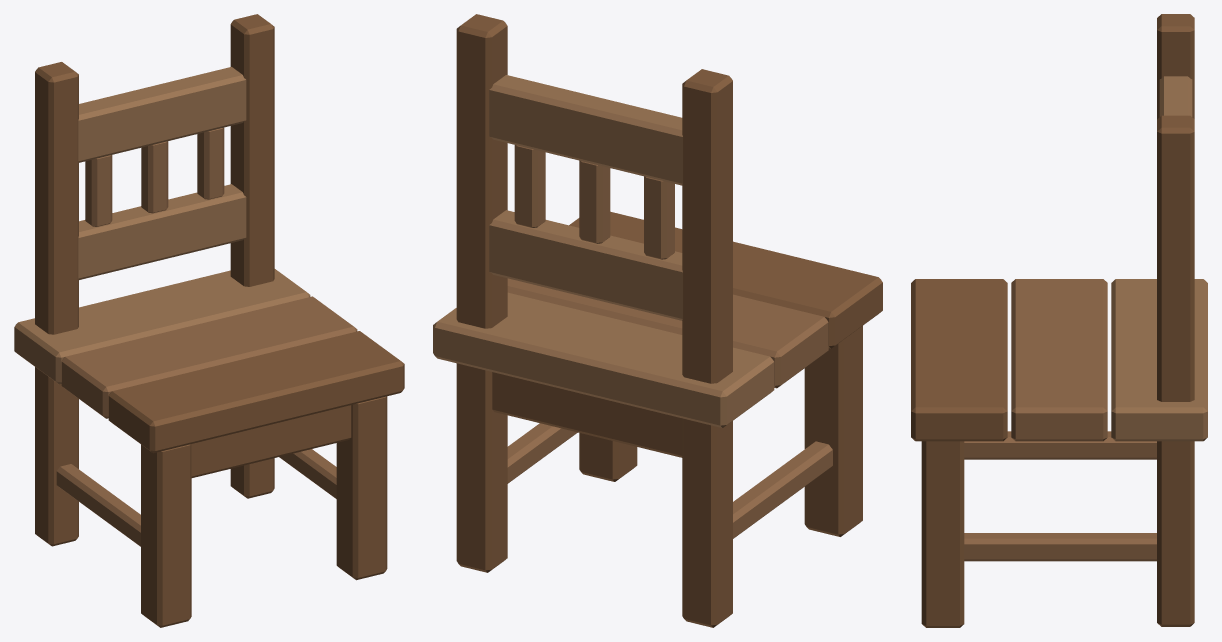
File: PubChair.glb
3 renders of one model, left to right at view 1: azimuth 30°, elevation 25°; view 2: azimuth 150°, elevation 25°; view 3: azimuth 270°, elevation 25°, orthographic. The views are drawn at different scales.
Parts seen in each view (by area): view 1: SeatPlank, RearPost, SeatPlank.001, RearPost.001, SeatPlank.002, BackRail.001, BackRail, FrontLeg, FrontLeg.001, SeatApron, SideRail, BackSlat.001 (+3 smaller); view 2: RearPost, RearPost.001, SeatPlank.002, BackRail.001, BackRail, FrontLeg, SeatPlank, SeatPlank.001, SeatApron.001, SideRail, BackSlat.001, BackSlat.002 (+3 smaller); view 3: RearPost.001, SeatPlank, SeatPlank.001, SeatPlank.002, FrontLeg.001, SideRail.001, SideRail, RearPost, BackRail.001.
Boxes of the visible parts, <box> form: SeatPlank: <box>108,331,404,453</box>; RearPost: <box>35,62,78,546</box>; SeatPlank.001: <box>61,296,357,418</box>; RearPost.001: <box>230,14,274,498</box>; SeatPlank.002: <box>14,269,310,384</box>; BackRail.001: <box>78,67,246,162</box>; BackRail: <box>78,184,246,279</box>; FrontLeg: <box>141,444,191,627</box>; FrontLeg.001: <box>336,396,387,580</box>; SeatApron: <box>191,405,351,477</box>; SideRail: <box>56,464,140,546</box>; BackSlat.001: <box>141,141,168,213</box>; RearPost: <box>682,69,732,627</box>; RearPost.001: <box>456,14,507,572</box>; SeatPlank.002: <box>433,292,774,427</box>; BackRail.001: <box>489,75,682,185</box>; BackRail: <box>489,210,682,320</box>; FrontLeg: <box>804,326,862,536</box>; SeatPlank: <box>569,211,882,348</box>; SeatPlank.001: <box>507,278,828,388</box>; SeatApron.001: <box>492,372,682,457</box>; SideRail: <box>733,441,832,538</box>; BackSlat.001: <box>579,160,610,243</box>; BackSlat.002: <box>514,145,545,227</box>; RearPost.001: <box>1157,115,1194,626</box>; SeatPlank: <box>911,279,1007,441</box>; SeatPlank.001: <box>1011,279,1107,441</box>; SeatPlank.002: <box>1111,279,1207,441</box>; FrontLeg.001: <box>921,441,964,627</box>; SideRail.001: <box>964,533,1156,561</box>; SideRail: <box>964,431,1156,459</box>; RearPost: <box>1157,14,1194,119</box>; BackRail.001: <box>1159,76,1192,116</box>.
Bounding box in the file's own units: 2.5 × 4.4 × 2.37.
